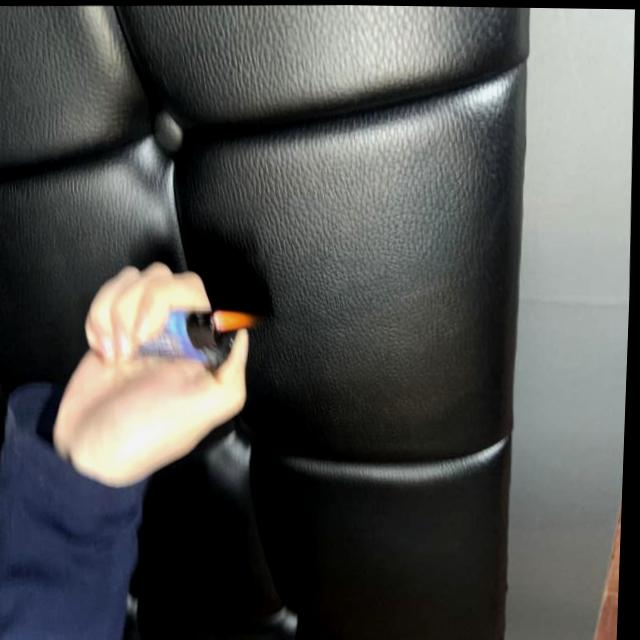helmet: (212, 308, 259, 336)
